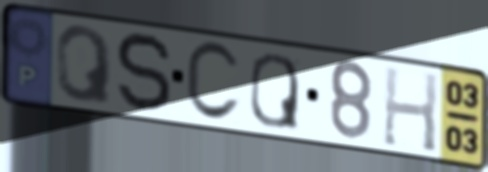8: (328, 59, 374, 143)
C: (183, 39, 244, 125)
H: (380, 62, 442, 156)
Q: (53, 23, 116, 107), (247, 50, 302, 134)
S: (113, 30, 175, 116)
